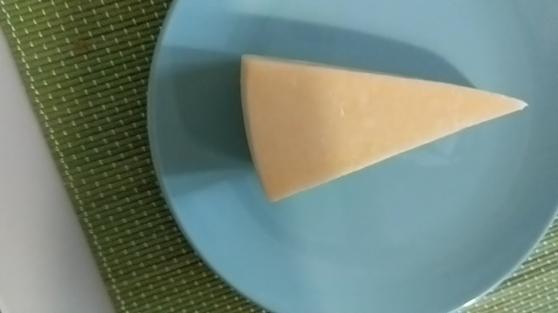cheese: (242, 53, 534, 201)
